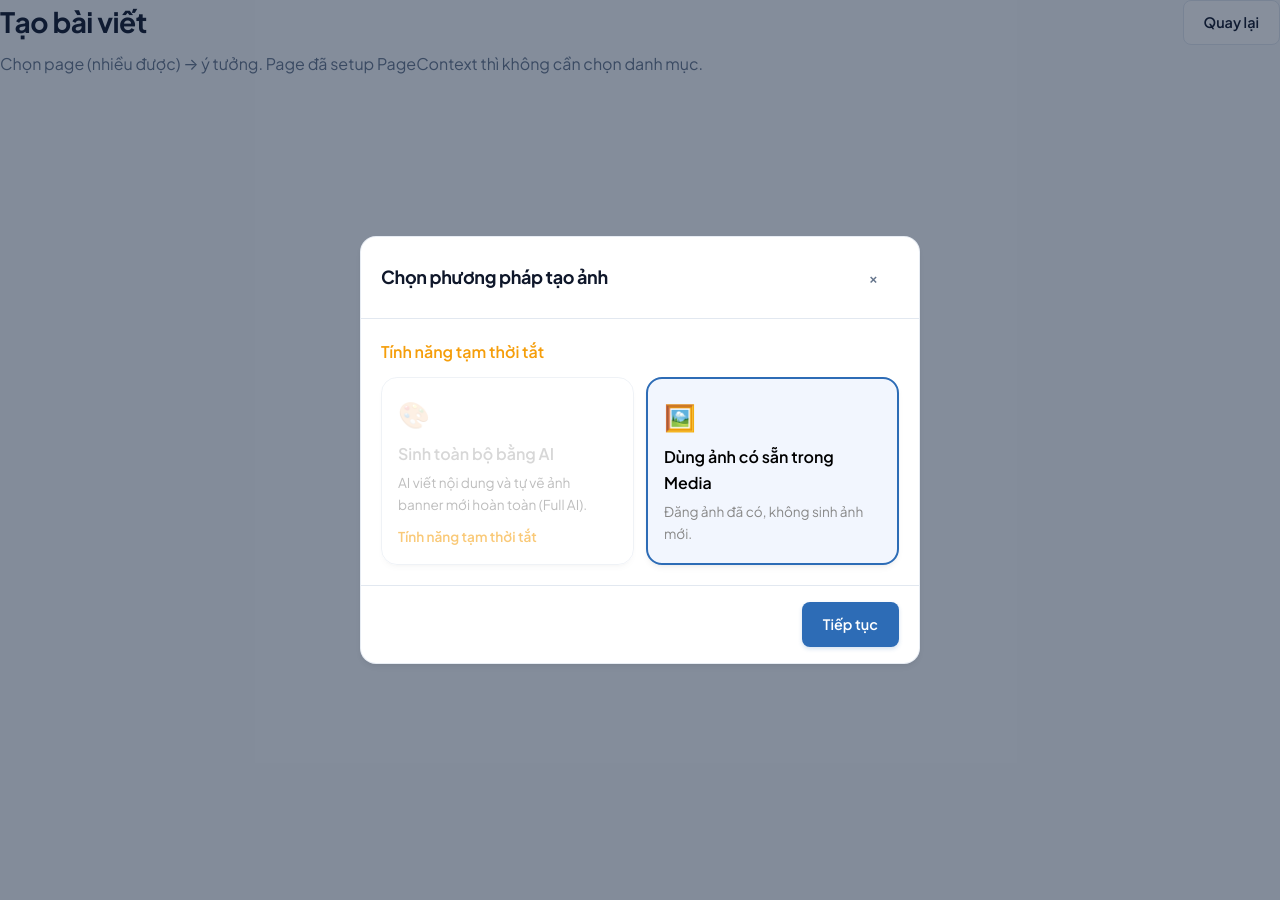
Scenario: PostCreatePage media flow › shows full-AI disabled (temp kill switch), hides template, preselects media
The width and height of the screenshot is (1280, 900).
Check: the button "Sinh toàn bộ bằng AI" is disabled, box left=381, top=377, right=634, bottom=565
Check: the button "Dùng ảnh có sẵn trong Media" is shown, box left=646, top=377, right=899, bottom=565
Click the button "Tiếp tục" at (850, 624), box left=802, top=602, right=899, bottom=647
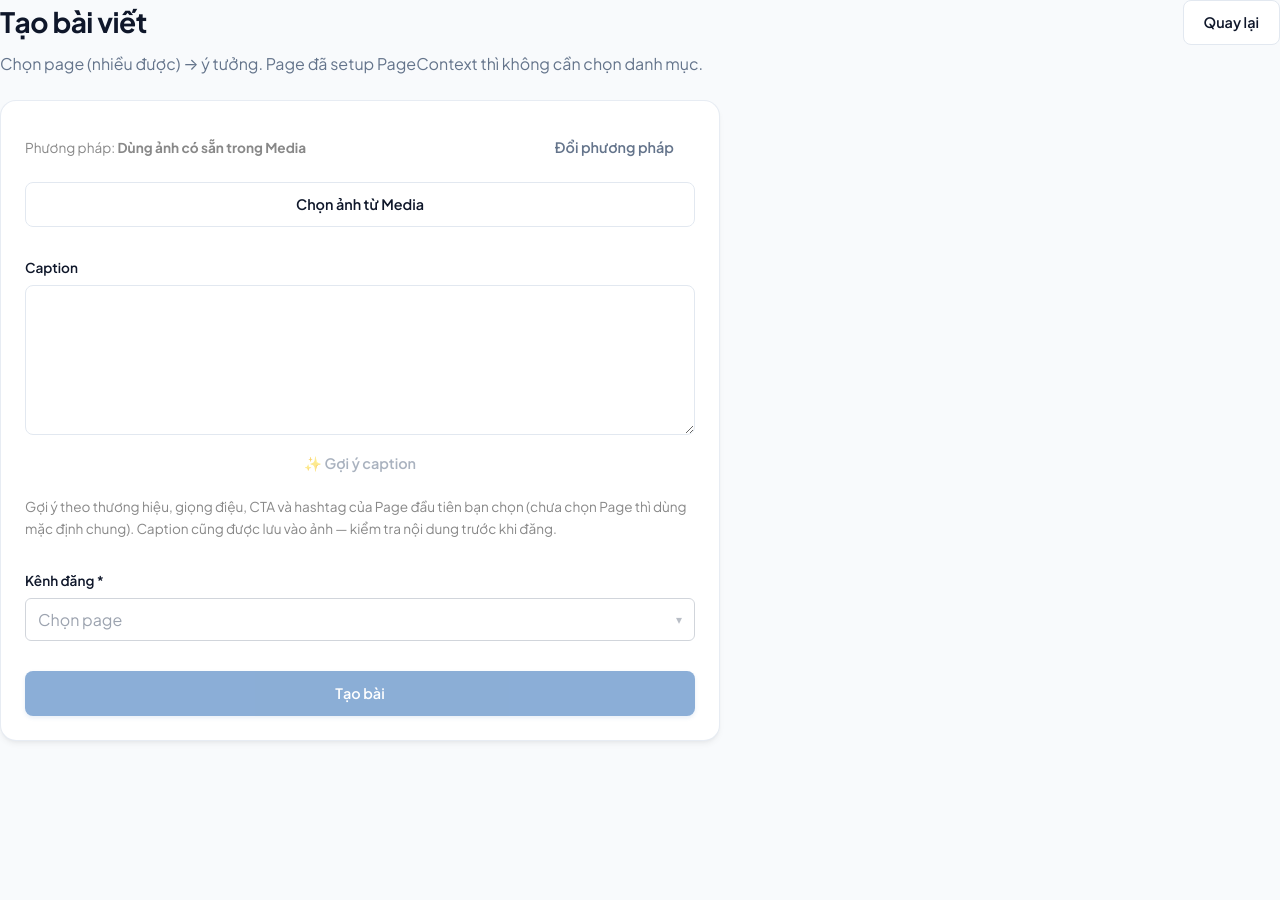
Check: the button "Chọn ảnh từ Media" is shown, box left=25, top=182, right=695, bottom=227
